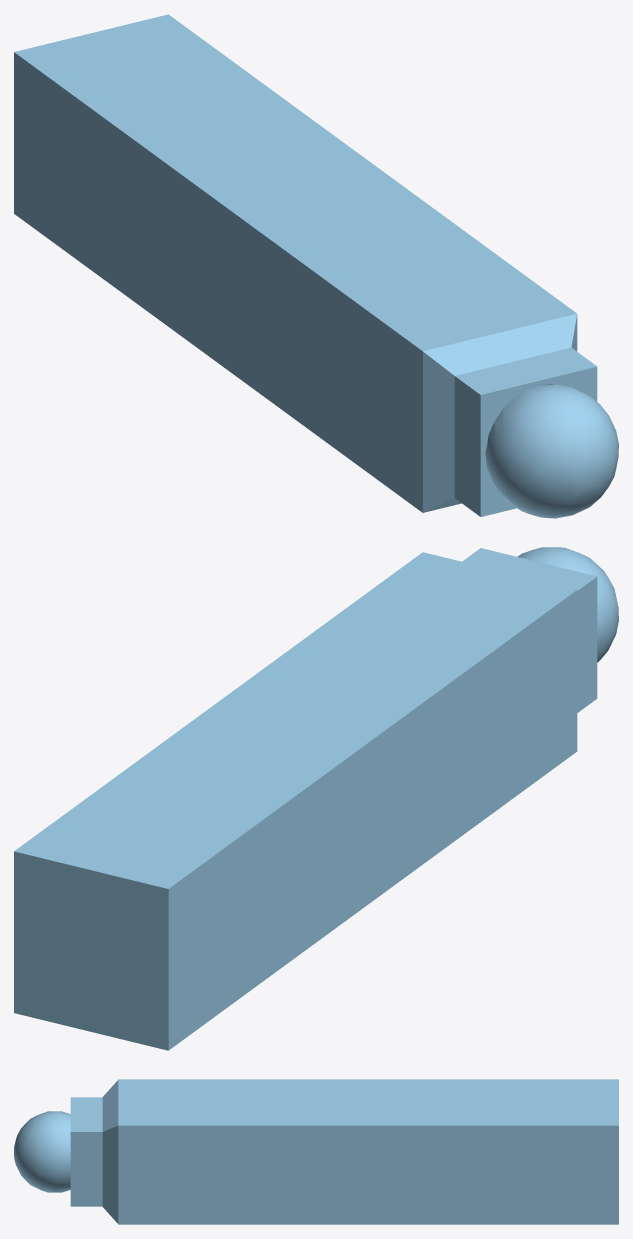
The model's file is wallPostBall.obj.
3 views of the same model, one above another, from view 1: azimuth 30°, elevation 25°; view 2: azimuth 150°, elevation 25°; view 3: azimuth 270°, elevation 25° (orthographic). The views are drawn at different scales.
Parts seen in each view (by area): view 1: mesh0; view 2: mesh0; view 3: mesh0.
Boxes of the visible parts, x1=… form: mesh0: x1=14, y1=14, x2=618, y2=518; mesh0: x1=14, y1=547, x2=618, y2=1050; mesh0: x1=14, y1=1079, x2=618, y2=1224.
Size of the model in its own units: 0.3048 by 0.3048 by 1.69.
